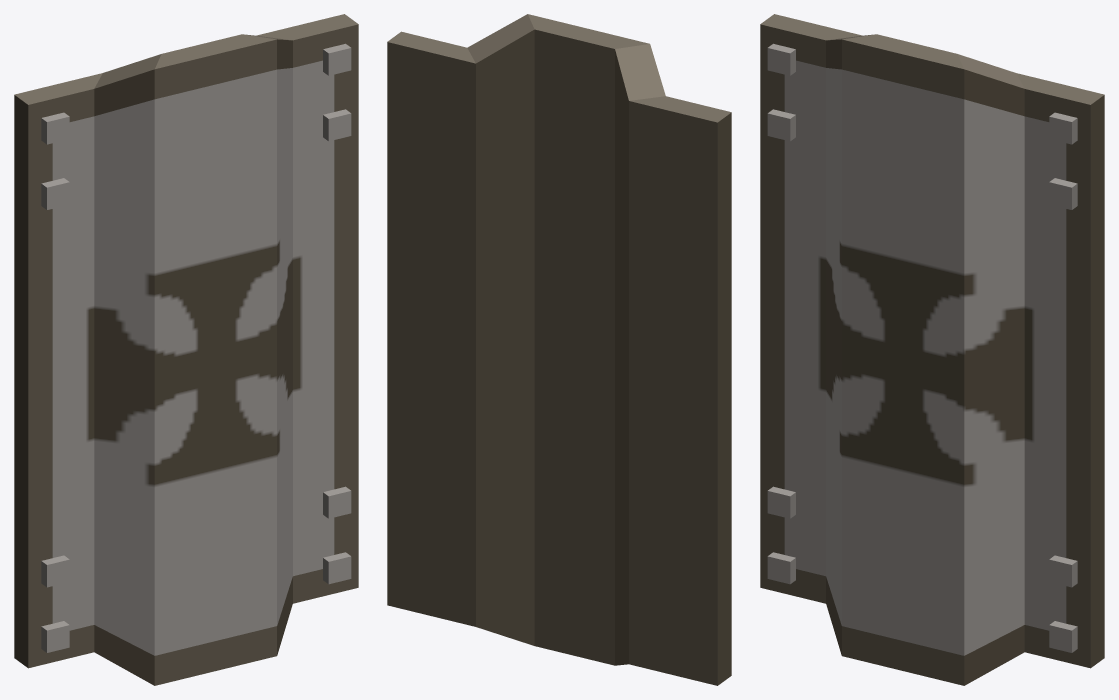
File: SF_Wep_TowerShield_011.fbx
3 views of the same model, side by side, from view 1: azimuth 30°, elevation 25°; view 2: azimuth 150°, elevation 25°; view 3: azimuth 330°, elevation 25° (orthographic).
Parts seen in each view (by area): view 1: SF_Wep_TowerShield_011; view 2: SF_Wep_TowerShield_011; view 3: SF_Wep_TowerShield_011.
Part boxes in pixels (x1,y1,x2,y2): SF_Wep_TowerShield_011: (14,14,358,685); SF_Wep_TowerShield_011: (387,14,731,685); SF_Wep_TowerShield_011: (760,14,1104,685).
Size of the model in its own units: 1.33 by 2.37 by 0.2542.
